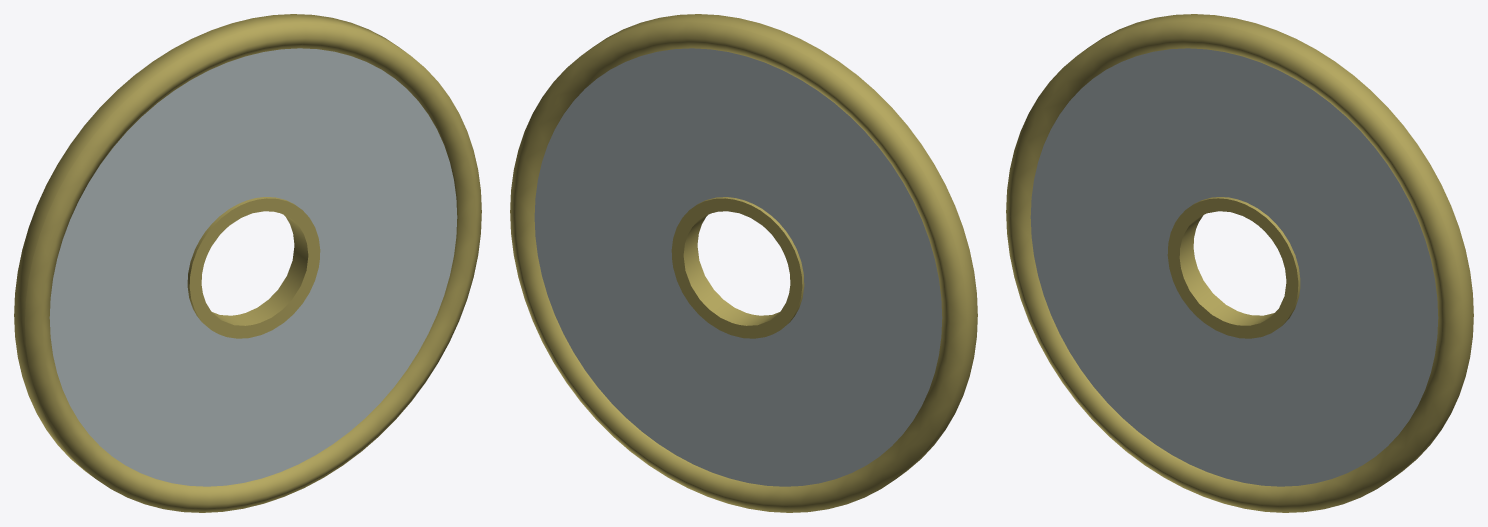
File: mdl_cwt_token.gltf
3 renders of one model, left to right at view 1: azimuth 30°, elevation 25°; view 2: azimuth 150°, elevation 25°; view 3: azimuth 330°, elevation 25°, orthographic.
Visible parts, largest first — view 1: Token; view 2: Token; view 3: Token.
Part boxes in pixels (x1=…): Token: x1=14, y1=14, x2=481, y2=512; Token: x1=510, y1=14, x2=977, y2=512; Token: x1=1006, y1=14, x2=1473, y2=512.
Size of the model in its own units: 0.0666 by 0.0666 by 0.00534.
2 materials, 2 textured.
